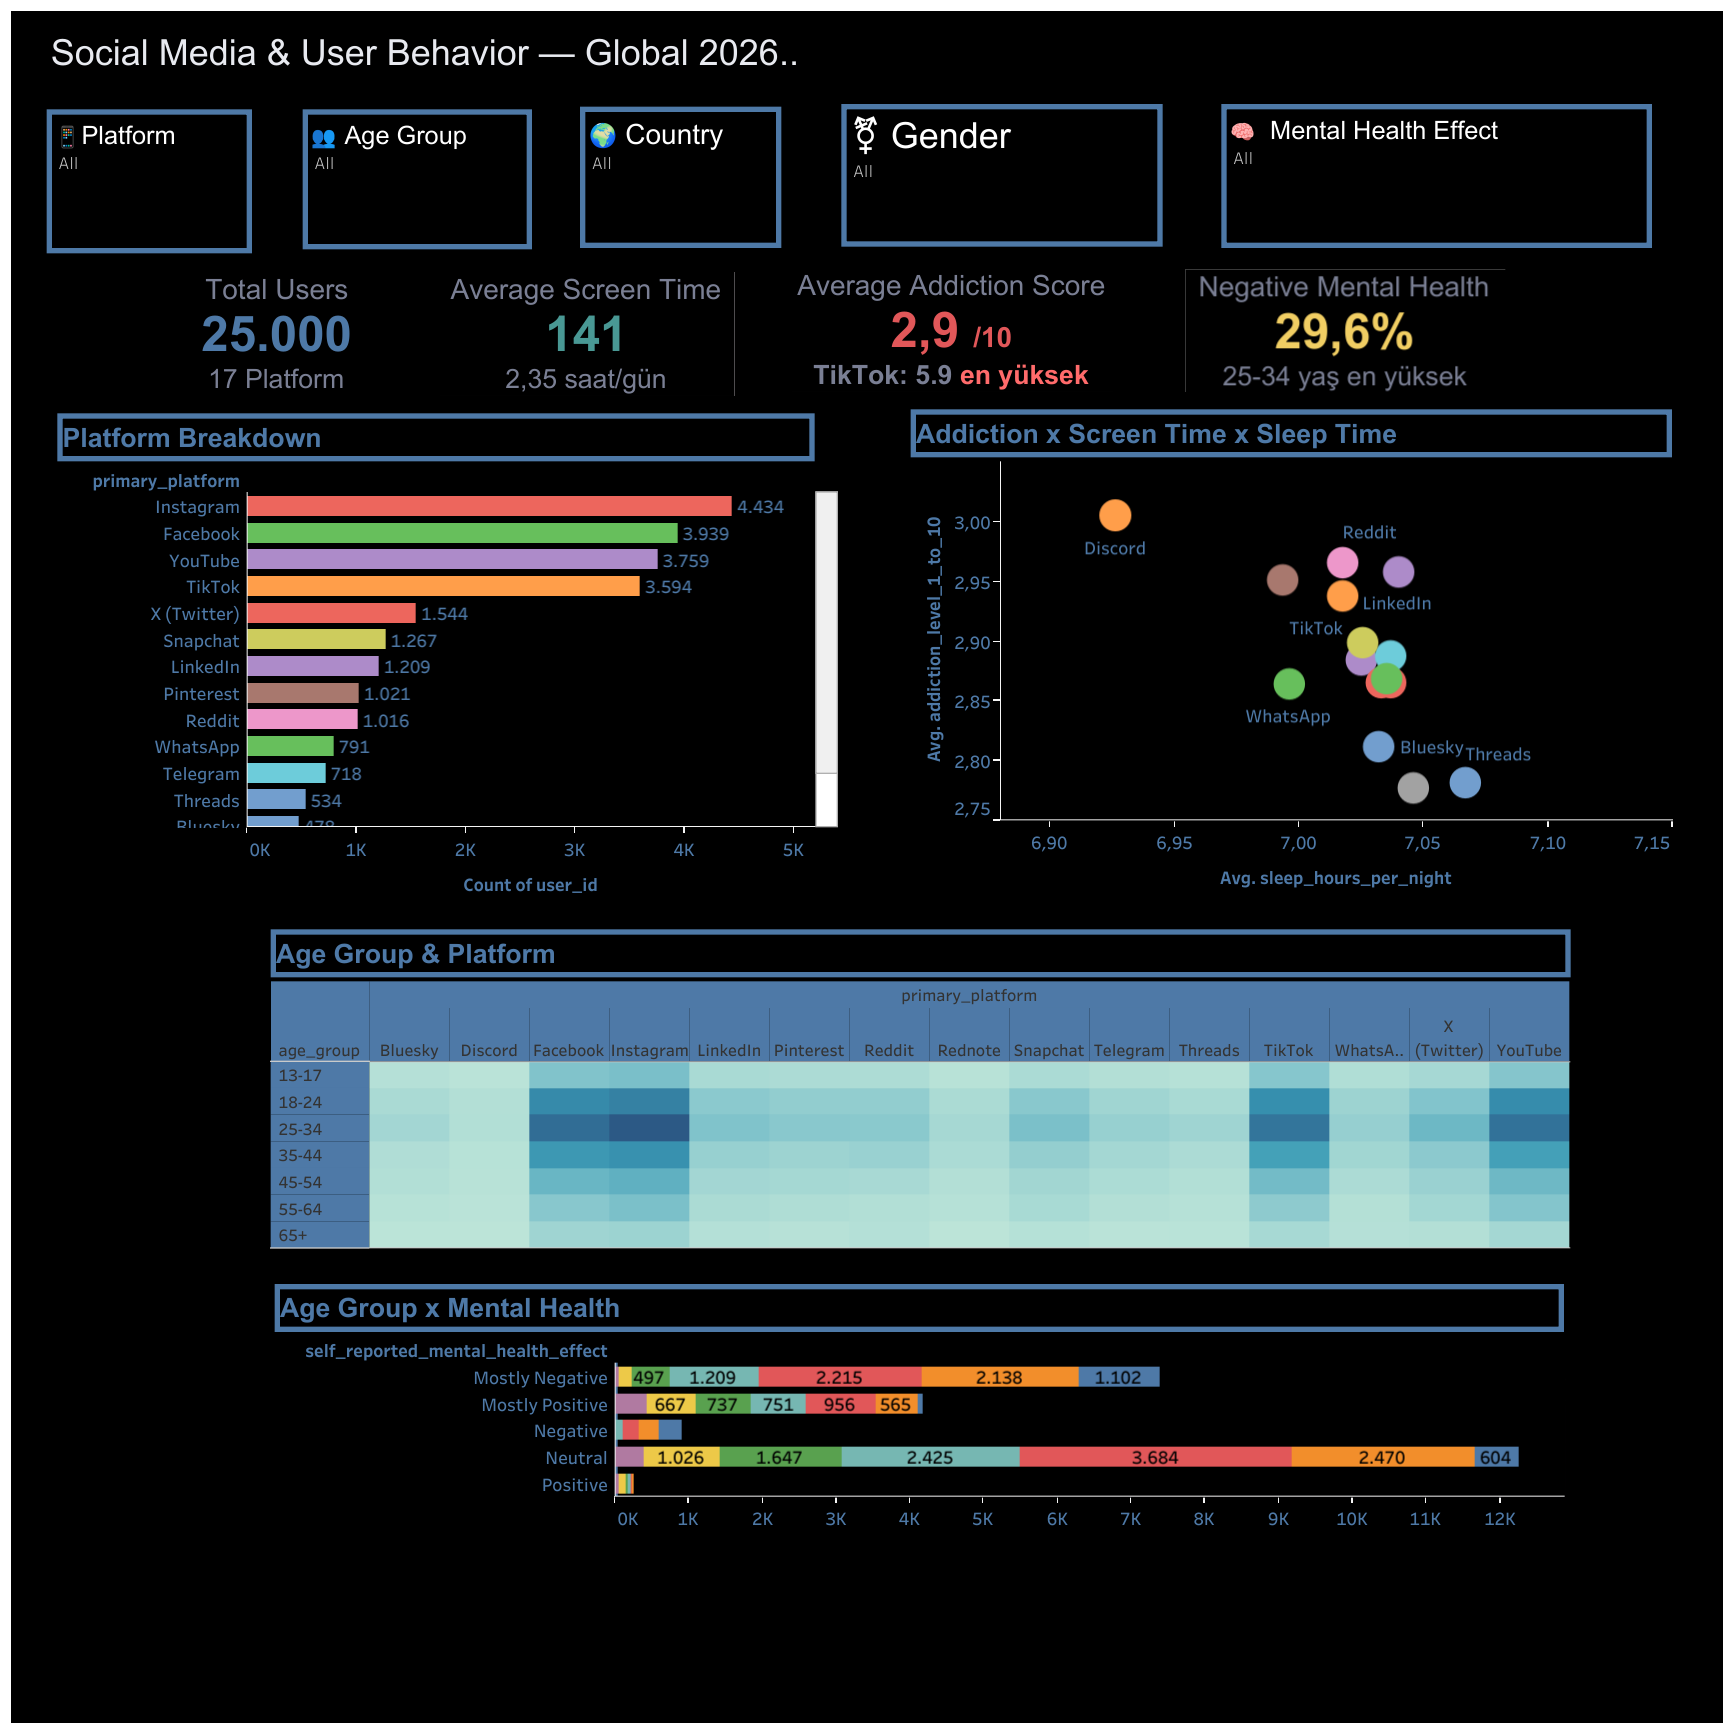

What the dashboard file says about the page in this screenshot:
{"tool":"tableau","page":{"name":"Social Media & User Behavior — Global 2026","canvas":[1300,1300],"ordinal":0},"visuals":[{"type":"title","box":[8,8,1284,62]},{"type":"filter","title":"Total Users","param":"[federated.0msf4de0iu42fa185dszr1hjari9].[none:gender:nk]","box":[631,78,241,107]},{"type":"filter","title":"Total Users","param":"[federated.0msf4de0iu42fa185dszr1hjari9].[none:self_reported_mental_health_effec","box":[916,78,323,108]},{"type":"filter","title":"Total Users","param":"[federated.0msf4de0iu42fa185dszr1hjari9].[none:country:nk]","box":[435,80,151,106]},{"type":"filter","title":"Total Users","param":"[federated.0msf4de0iu42fa185dszr1hjari9].[none:age_group:nk]","box":[227,82,172,105]},{"type":"filter","title":"Total Users","param":"[federated.0msf4de0iu42fa185dszr1hjari9].[none:primary_platform:nk]","box":[35.4,82.3,153.8,107.5]},{"type":"worksheet","title":"Addiction Score","mark":"Automatic","box":[593.6,201.1,246.9,136.1]},{"type":"worksheet","title":"Negative Mental Health","mark":"Automatic","box":[889,202,243,158]},{"type":"worksheet","title":"Total Users","mark":"Automatic","box":[138,204,163,164]},{"type":"worksheet","title":"Average Screen Time","mark":"Automatic","box":[330,204,228,149]},{"type":"text","box":[292.6,283.8,93.2,43]},{"type":"worksheet","title":"Addiction x Screen Time x Sleep Time","mark":"Circle","rows":["addiction_level_1_to_10"],"cols":["sleep_hours_per_night"],"box":[683.1,306.8,571.3,367.5]},{"type":"worksheet","title":"Platform Breakdown","mark":"Bar","rows":["primary_platform"],"cols":["user_id"],"box":[42.9,310.3,586.2,368.3]},{"type":"worksheet","title":"Age Group & Platform","mark":"Automatic","rows":["age_group"],"cols":["primary_platform"],"box":[203,697,1000,268]},{"type":"worksheet","title":"Age Group x Mental Health","mark":"Automatic","rows":["self_reported_mental_health_effect"],"cols":["user_id"],"box":[206,963,967,211]}]}

Visuals, with their boxes in screenshot pixels (x1, y1, x2, y2), scaled from the page's 1300x1300 canvas onto the 1732x1732 screenshot:
title: bbox=[11, 11, 1721, 93]
"Total Users" filter: bbox=[841, 104, 1162, 246]
"Total Users" filter: bbox=[1220, 104, 1651, 248]
"Total Users" filter: bbox=[580, 107, 781, 248]
"Total Users" filter: bbox=[302, 109, 532, 249]
"Total Users" filter: bbox=[47, 110, 252, 253]
"Addiction Score" worksheet: bbox=[791, 268, 1120, 449]
"Negative Mental Health" worksheet: bbox=[1184, 269, 1508, 480]
"Total Users" worksheet: bbox=[184, 272, 401, 490]
"Average Screen Time" worksheet: bbox=[440, 272, 743, 470]
text: bbox=[390, 378, 514, 435]
"Addiction x Screen Time x Sleep Time" worksheet (Circle marks): bbox=[910, 409, 1671, 898]
"Platform Breakdown" worksheet (Bar marks): bbox=[57, 413, 838, 904]
"Age Group & Platform" worksheet: bbox=[270, 929, 1603, 1286]
"Age Group x Mental Health" worksheet: bbox=[274, 1283, 1563, 1564]
